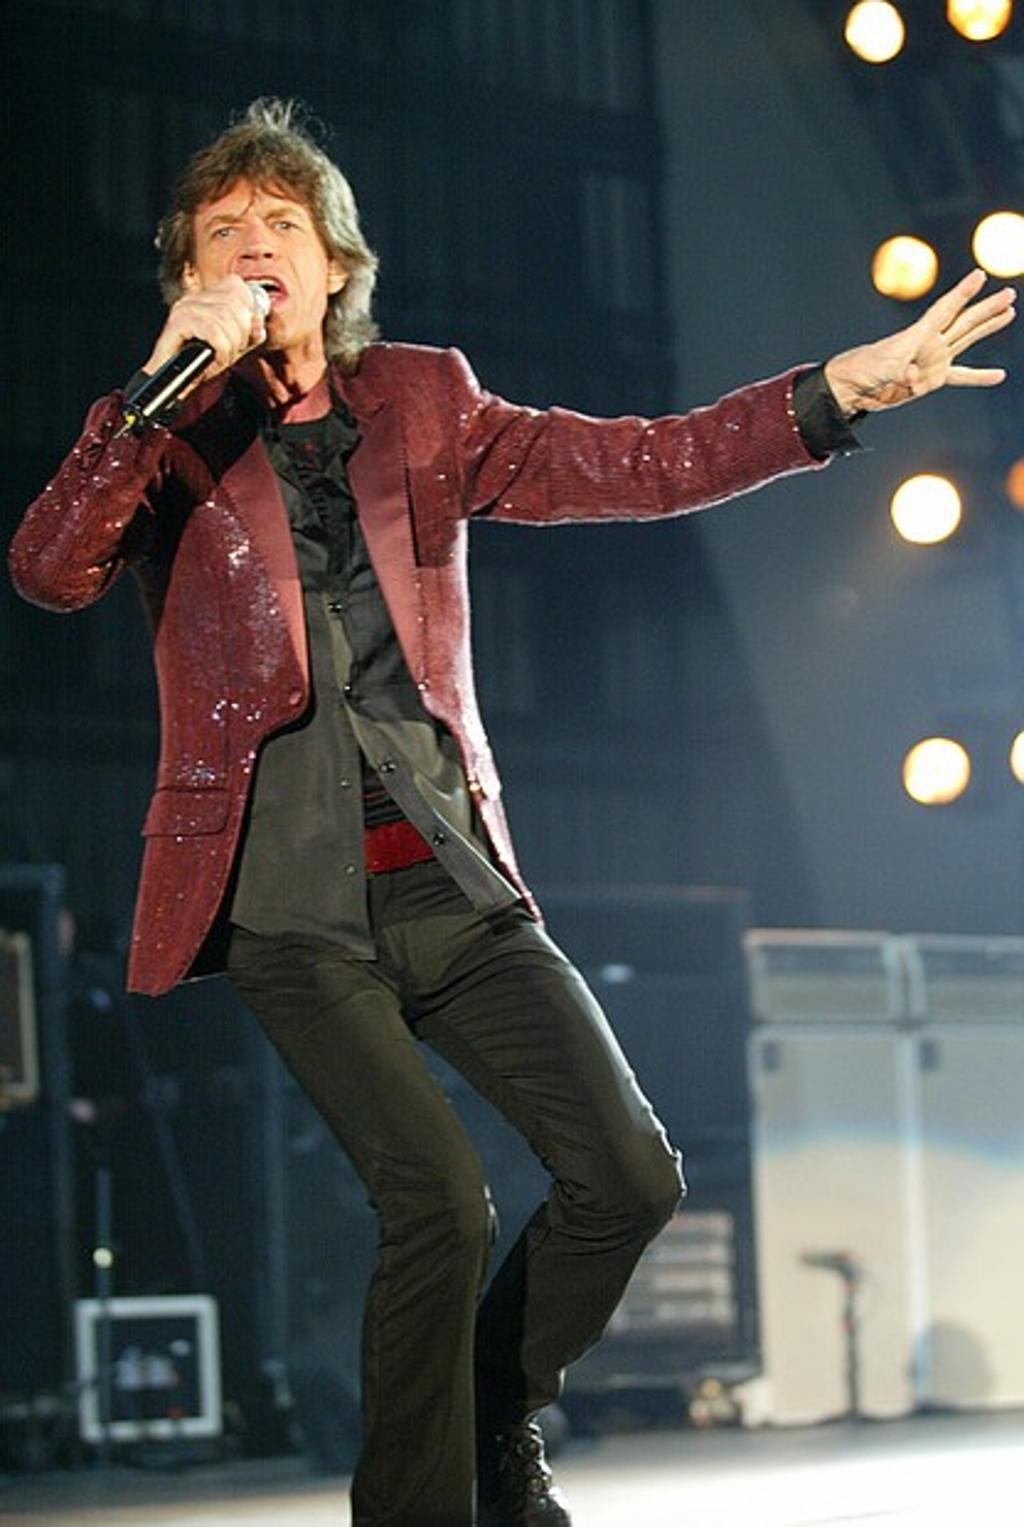face: (194, 171, 334, 347)
